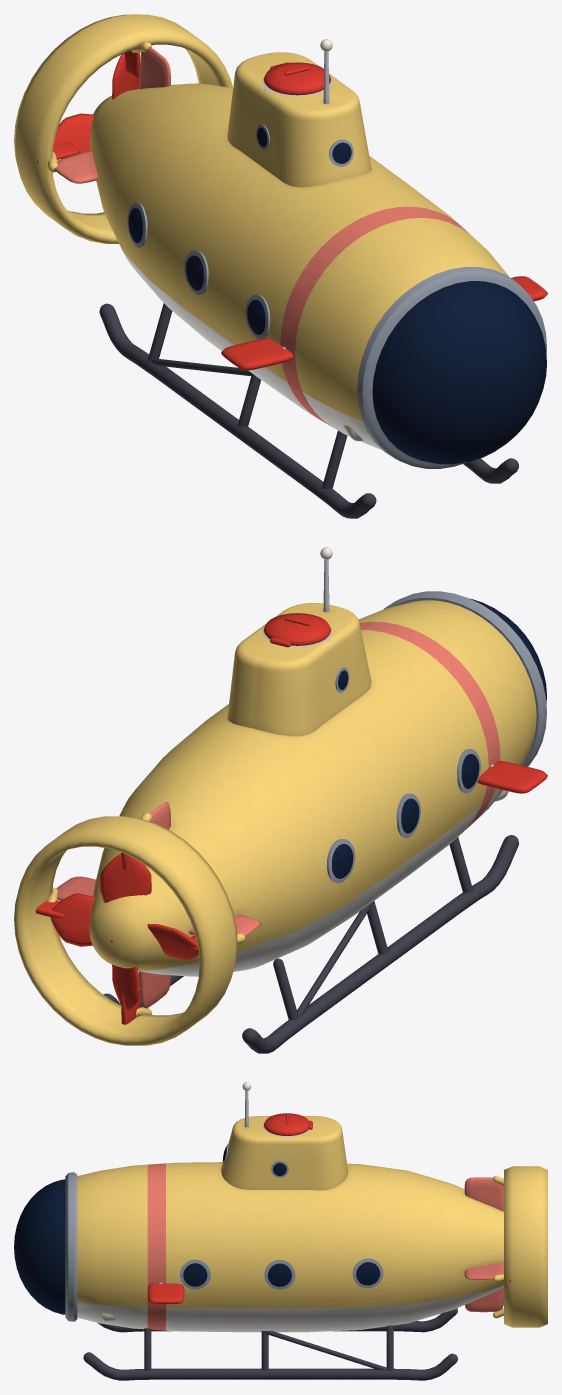
The model's file is submarine.obj.
3 renders of one model, top to bottom at view 1: azimuth 30°, elevation 25°; view 2: azimuth 150°, elevation 25°; view 3: azimuth 270°, elevation 25°, orthographic. The views are drawn at different scales.
Visible parts, largest first — view 1: submarine_body, submarine_dome, submarine_dome_ring, submarine_portholes, submarine_propeller, submarine_hatch, submarine_dive_plane_bow_starboard; view 2: submarine_body, submarine_propeller, submarine_portholes, submarine_dome_ring, submarine_hatch, submarine_dive_plane_bow_starboard, submarine_dome; view 3: submarine_body, submarine_dome, submarine_portholes, submarine_dome_ring, submarine_hatch, submarine_dive_plane_bow_port.
Boxes of the visible parts, x1,y1,x2,y2 form: submarine_body: [14, 14, 518, 518]; submarine_dome: [372, 281, 546, 464]; submarine_dome_ring: [357, 267, 546, 468]; submarine_portholes: [127, 124, 353, 339]; submarine_propeller: [54, 53, 139, 153]; submarine_hatch: [263, 62, 330, 95]; submarine_dive_plane_bow_starboard: [221, 338, 293, 370]; submarine_body: [14, 547, 536, 1053]; submarine_propeller: [50, 853, 198, 1009]; submarine_portholes: [327, 667, 480, 883]; submarine_dome_ring: [383, 591, 546, 766]; submarine_hatch: [263, 613, 330, 647]; submarine_dive_plane_bow_starboard: [477, 761, 547, 793]; submarine_dome: [470, 598, 546, 703]; submarine_body: [77, 1082, 547, 1380]; submarine_dome: [14, 1179, 65, 1314]; submarine_portholes: [180, 1144, 383, 1289]; submarine_dome_ring: [65, 1172, 77, 1321]; submarine_hatch: [263, 1113, 312, 1135]; submarine_dive_plane_bow_port: [147, 1283, 184, 1303].
Size of the model in its own units: 3.38 by 4.11 by 7.27.
13 materials, 1 textured.
